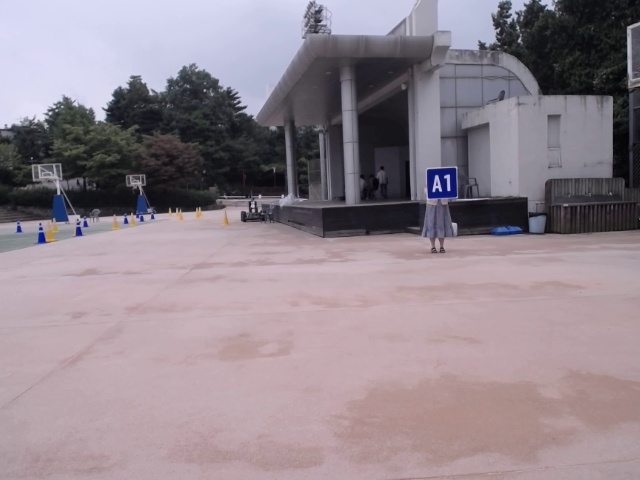delivery_a1: (426, 168, 458, 199)
